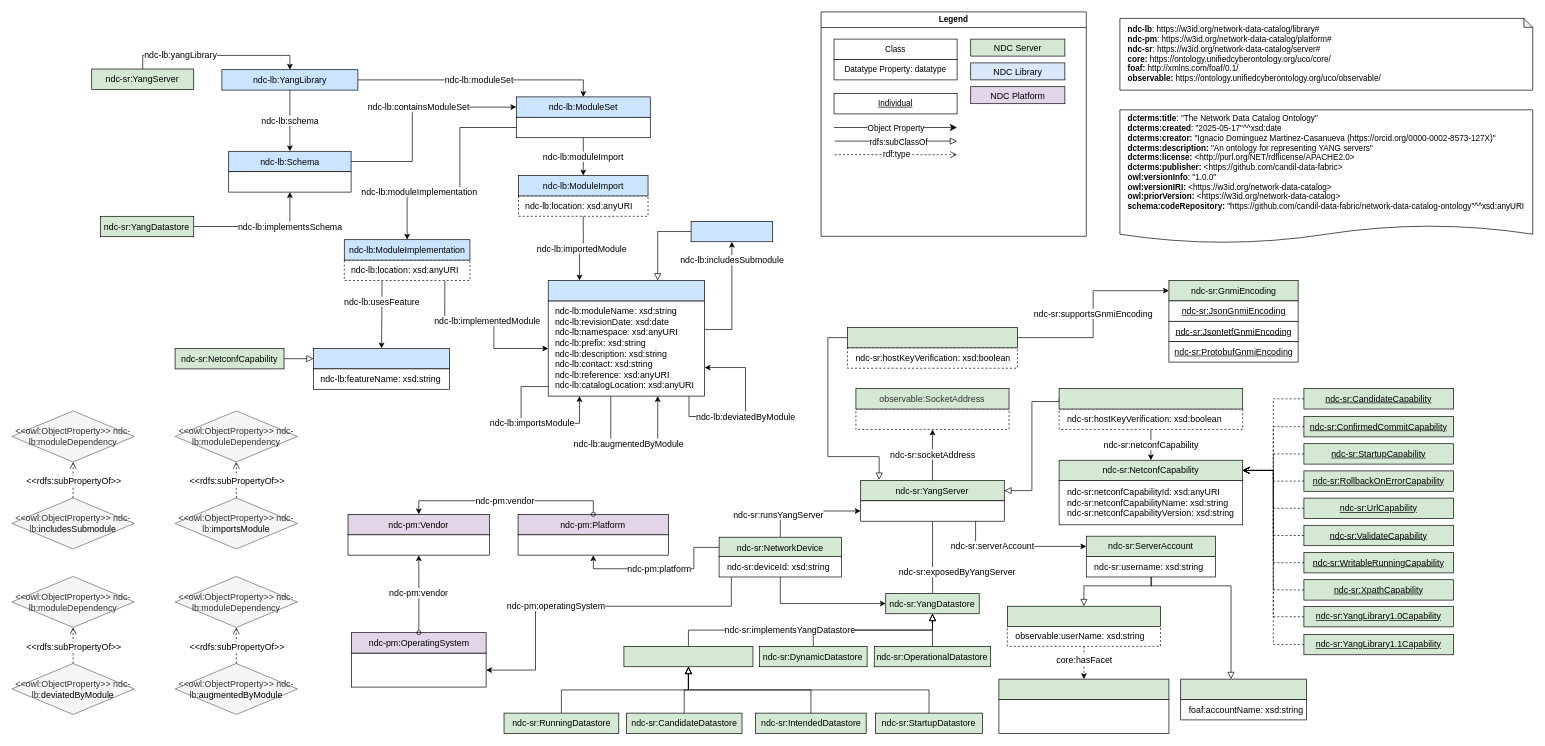
This 1545x746 diagram has some shape labels left out. The centre of each missing label's shape, as x and y in pixels:
"foaf:OnlineAccount" goes at point (1243, 689).
"ndc-lb:Feature" goes at point (381, 358).
"ndc-lb:Module" goes at point (626, 290).
"ndc-lb:moduleSetId: xsd:string" goes at point (583, 127).
"ndc-lb:schemaId: xsd:string" goes at point (289, 181).
"ndc-lb:Submodule" goes at point (731, 231).
"ndc-pm:osName: xsd:string ndc-pm:osVersion: xsd:string" goes at point (418, 669).
"ndc-pm:platformName: xsd:string" goes at point (593, 544).
"ndc-pm:vendorName: xsd:string" goes at point (418, 544).
"ndc-sr:ConventionalDatastore" goes at point (688, 656).
"ndc-sr:GnmiServer" goes at point (932, 337).
"ndc-sr:NetconfServer" goes at point (1150, 398).
"ndc-sr:protocolVersion: xsd:string" goes at point (932, 510).
"observable:AccountAuthenticationFacet" goes at point (1083, 689).
"observable:addressValue: xsd:string" goes at point (932, 418).
"observable:password: xsd:string observable:passwordType: xsd:string" goes at point (1083, 716).
"observable:UserAccount" goes at point (1083, 616).
